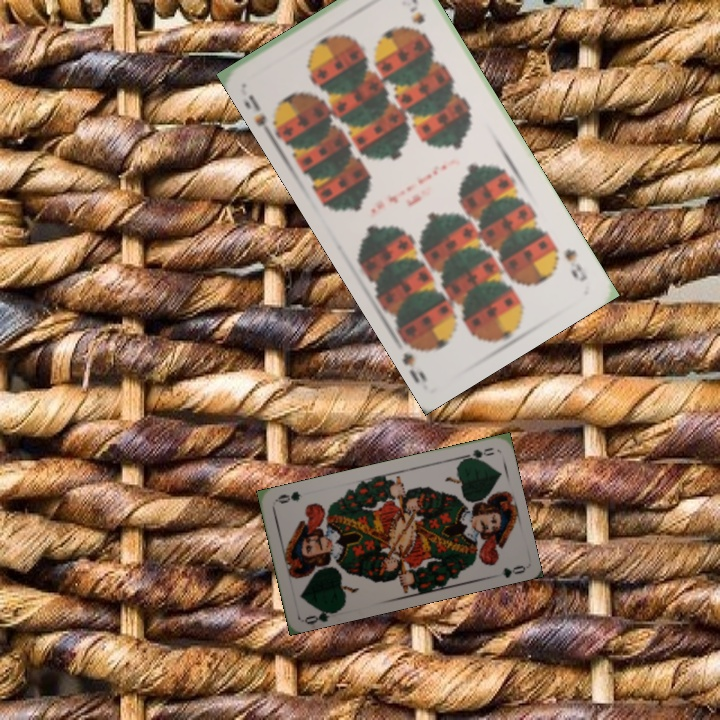GO: (301, 604, 341, 627), (457, 443, 497, 464)
S9: (241, 90, 286, 136), (560, 244, 590, 285)
